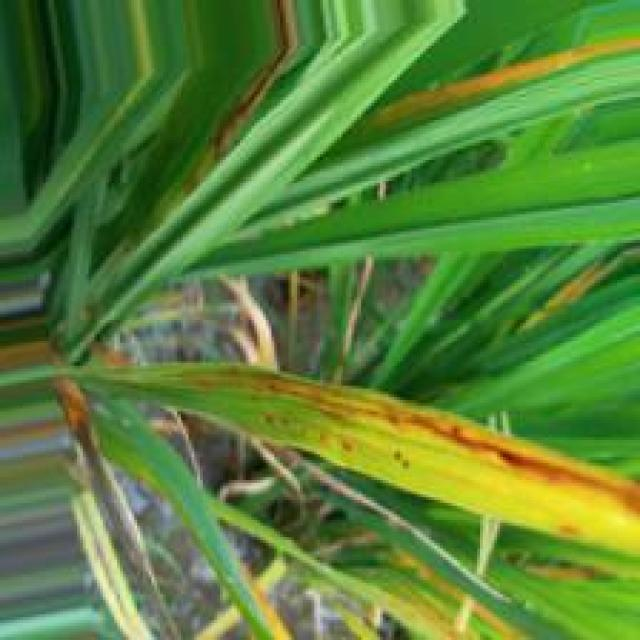Narrow_Brown_Leaf_Spot: (182, 370, 640, 561)
